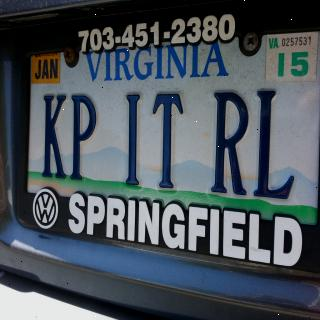license: (16, 53, 320, 266)
